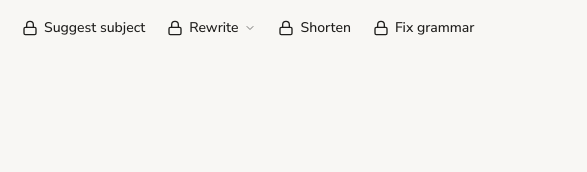
Scenario: compose AI tools › Free plan: buttons are visible but locked with the upgrade note
Click the button with test id "ai-subjects". click: (84, 28)
box: 12,12 -> 155,44
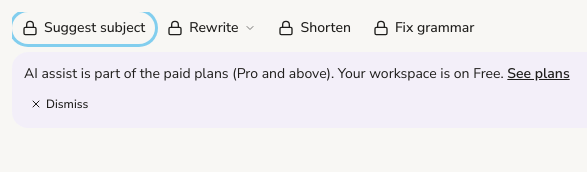
Result: the text "part of the paid plans" is shown at 24,64 -> 504,83
